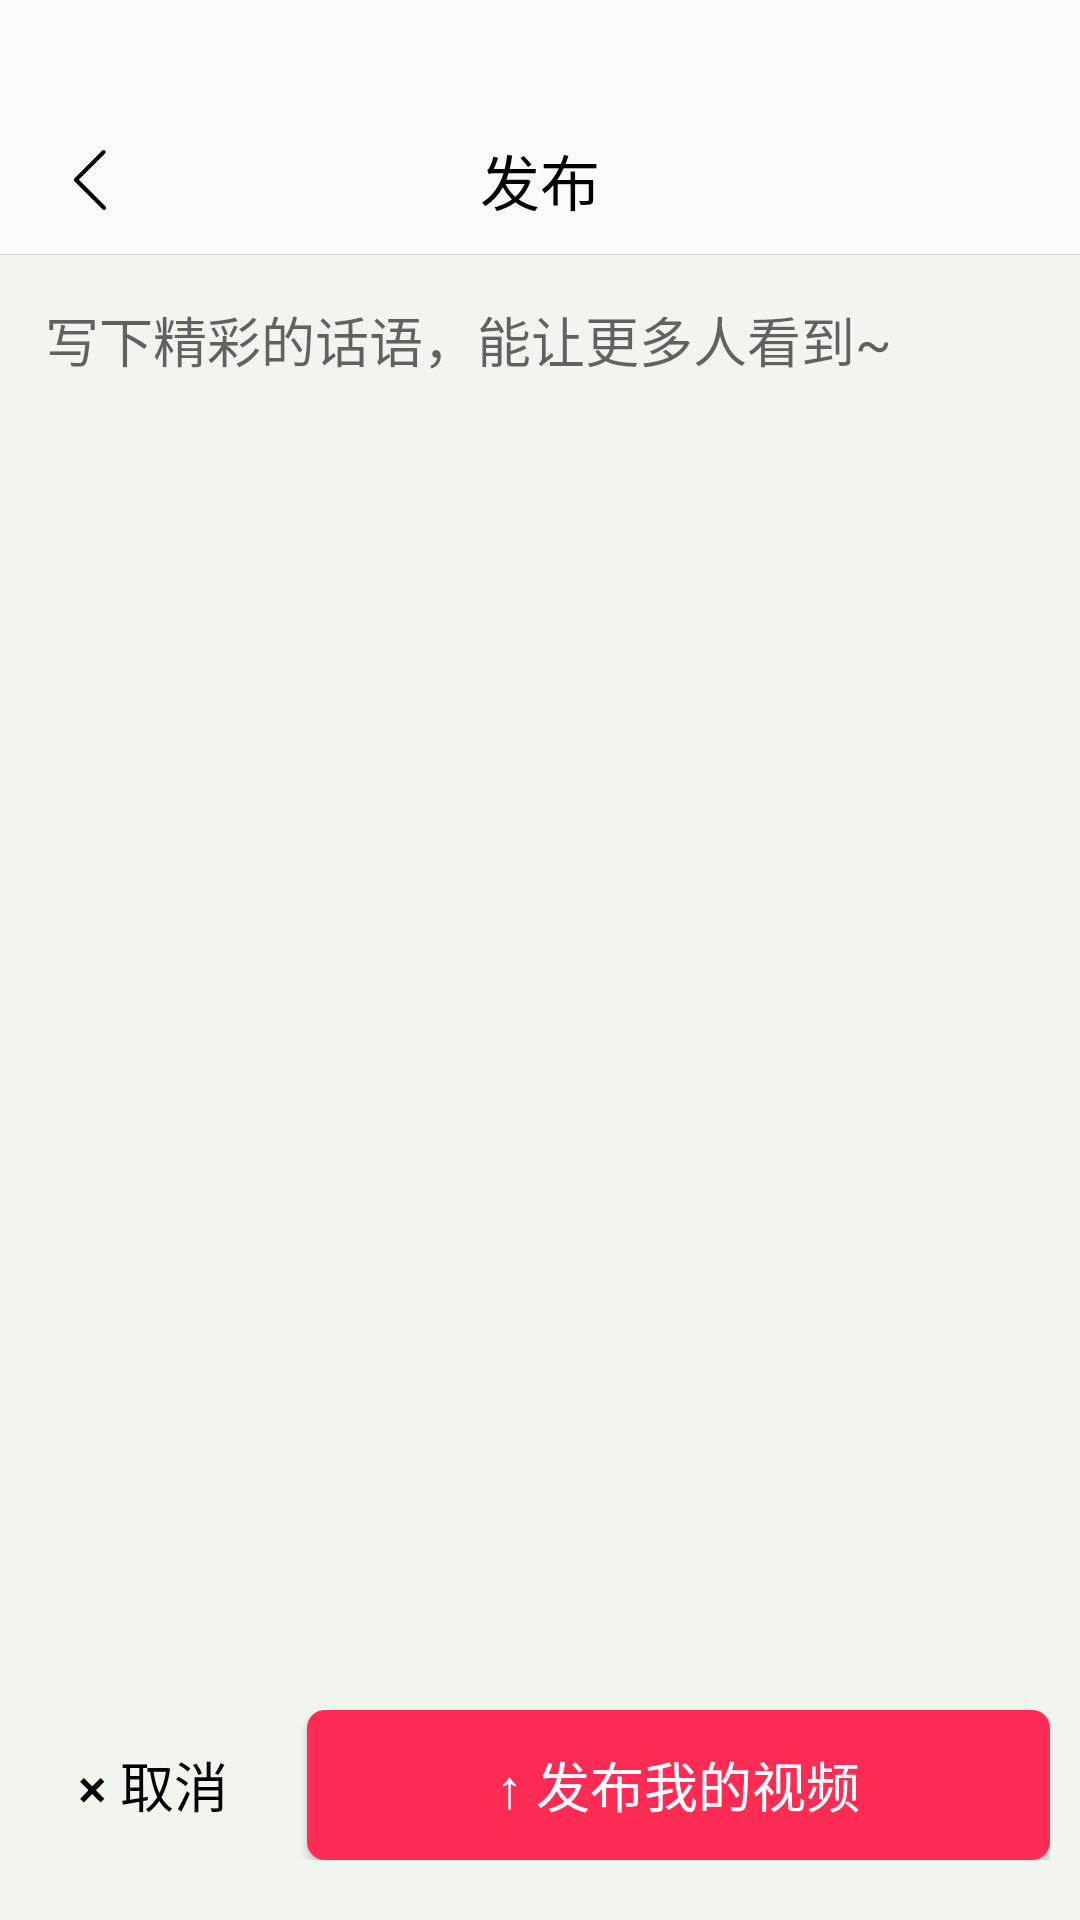

Where to tap for icons on this 1080px x 1920px app screen, as [x,y]:
back: [90,180]
